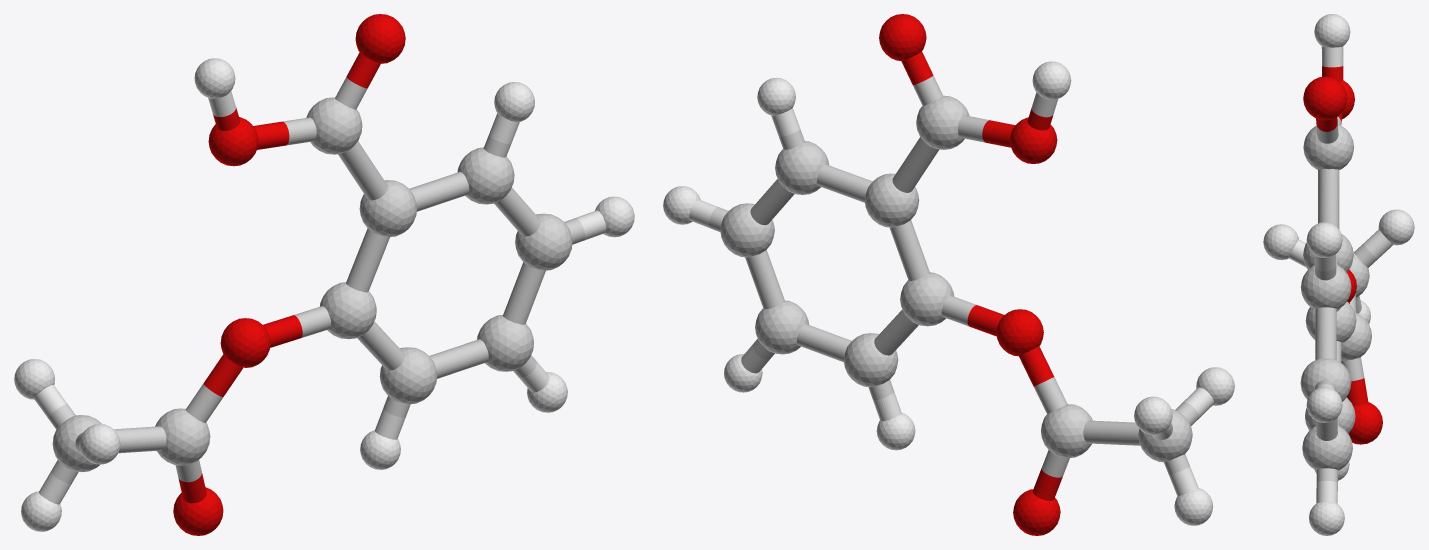
Rendered from aspirin.fbx.
The picture shows the model from 3 angles, left to right: view 1: azimuth 30°, elevation 25°; view 2: azimuth 150°, elevation 25°; view 3: azimuth 270°, elevation 25°; orthographic projection. The views are drawn at different scales.
Parts seen in each view (by area): view 1: aspirin; view 2: aspirin; view 3: aspirin.
Boxes of the visible parts, <box> form: aspirin: <box>14,14,634,535</box>; aspirin: <box>663,14,1234,535</box>; aspirin: <box>1263,14,1414,535</box>.
Bounding box in the file's own units: 8435 × 6710 × 2122.
